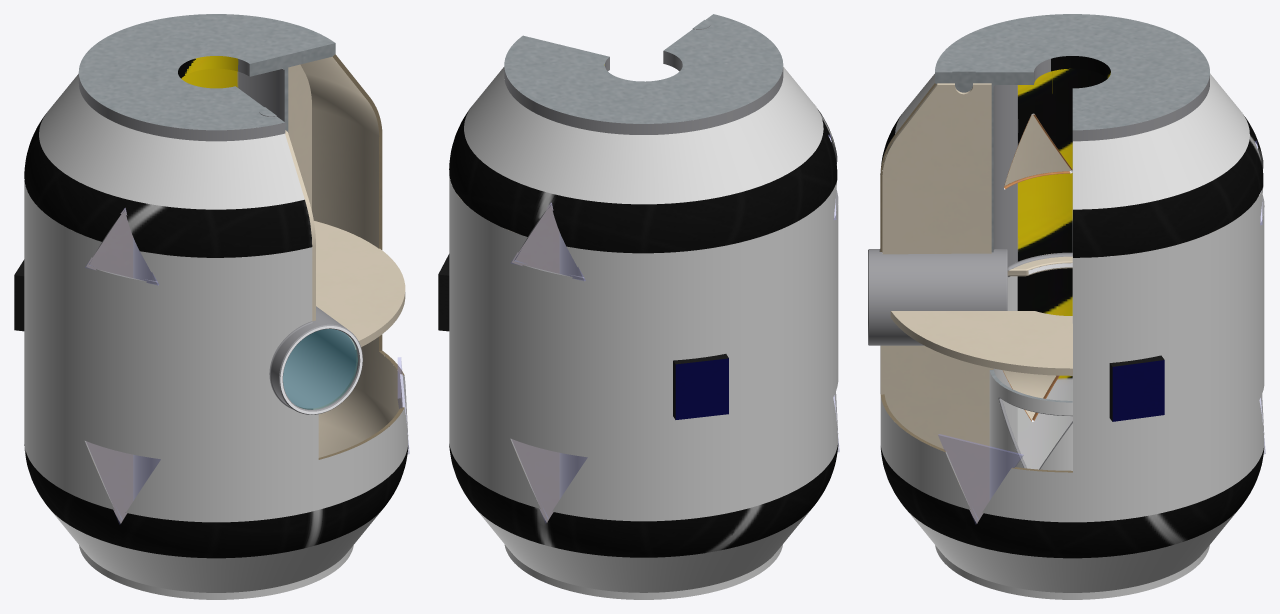
File: habmodule.glb
3 views of the same model, side by side, from view 1: azimuth 30°, elevation 25°; view 2: azimuth 150°, elevation 25°; view 3: azimuth 270°, elevation 25° (orthographic).
Bounding box in the file's own units: 0.0382 × 0.0509 × 0.039.
19 materials, 10 textured.
